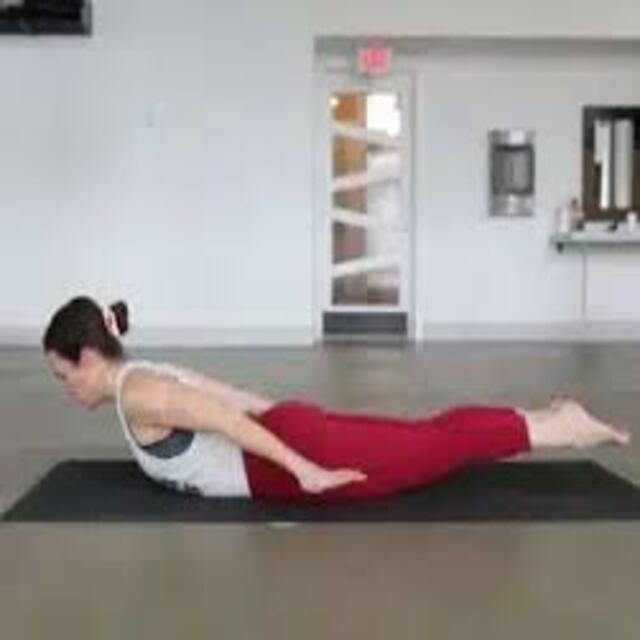Locust_Pose: (40, 293, 632, 507)
